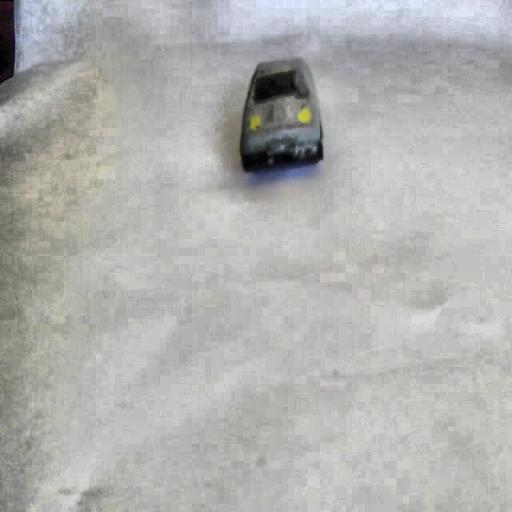normal_car: (237, 56, 326, 172)
